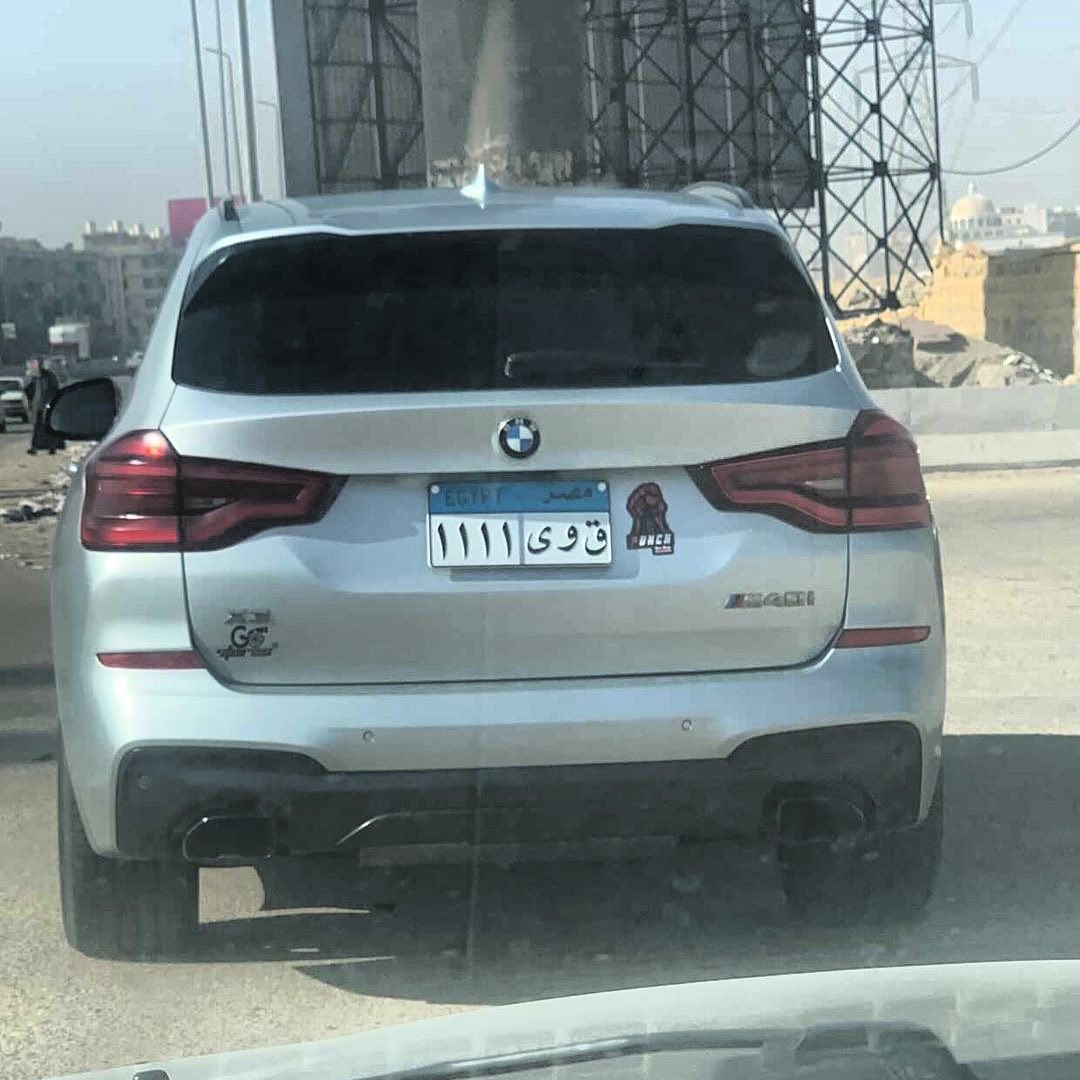carpl: (414, 453, 622, 581)
